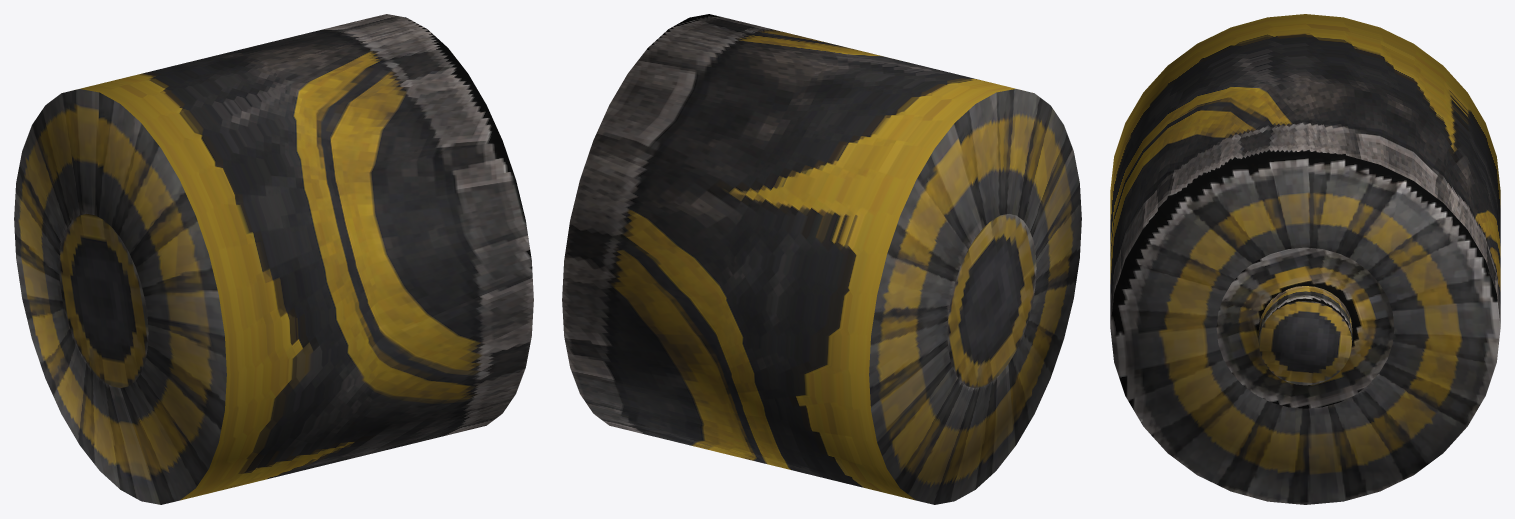
File: Bateria.glb
3 views of the same model, side by side, from view 1: azimuth 30°, elevation 25°; view 2: azimuth 150°, elevation 25°; view 3: azimuth 270°, elevation 25° (orthographic). The views are drawn at different scales.
Visible parts, largest first — view 1: Bateria; view 2: Bateria; view 3: Bateria.
Boxes of the visible parts, x1,y1,x2,y2 form: Bateria: [14, 14, 533, 504]; Bateria: [562, 14, 1081, 504]; Bateria: [1110, 14, 1500, 504].
Size of the model in its own units: 1.33 by 1.37 by 1.37.
Materials: 1 (1 with a texture image).
